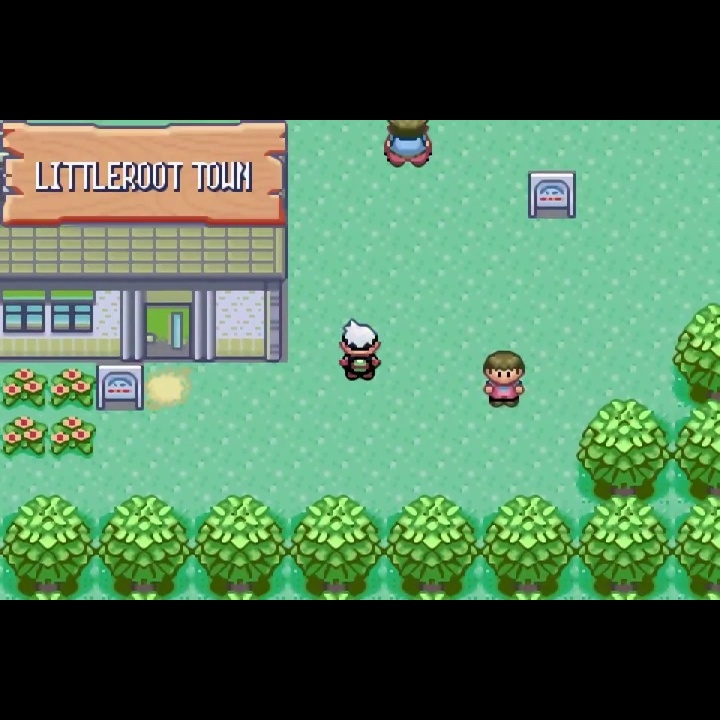house: (1, 226, 292, 366)
npc: (477, 346, 529, 411), (335, 315, 384, 383), (379, 120, 435, 171)
wall: (96, 494, 194, 600), (575, 397, 673, 502), (384, 493, 480, 600), (1, 495, 98, 600), (193, 494, 288, 600), (289, 493, 384, 599), (481, 494, 576, 599), (578, 496, 674, 599), (672, 396, 720, 504), (675, 495, 720, 599), (672, 302, 720, 399)
